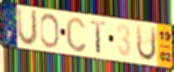3: (116, 24, 133, 60)
C: (65, 15, 88, 54)
O: (39, 12, 61, 50)
T: (90, 20, 108, 55)
U: (16, 7, 39, 49), (135, 23, 157, 63)
